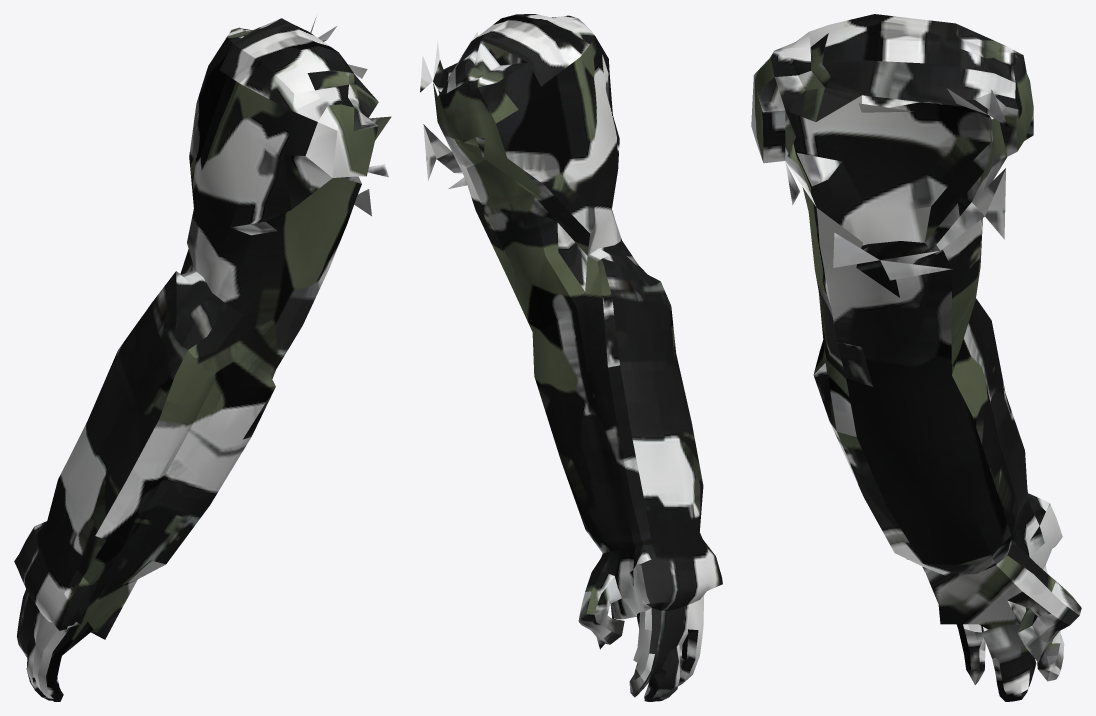
The model's file is soldier_1_arm_left.obj.
The picture shows the model from 3 angles, left to right: view 1: azimuth 30°, elevation 25°; view 2: azimuth 150°, elevation 25°; view 3: azimuth 270°, elevation 25°; orthographic projection. The views are drawn at different scales.
Parts seen in each view (by area): view 1: soldier_1_arm_left; view 2: soldier_1_arm_left; view 3: soldier_1_arm_left.
Part boxes in pixels (x1,y1,x2,y2): soldier_1_arm_left: (14,17,391,701); soldier_1_arm_left: (420,14,722,701); soldier_1_arm_left: (751,14,1081,701).
Bounding box in the file's own units: 0.3613 × 0.7639 × 0.2906.
